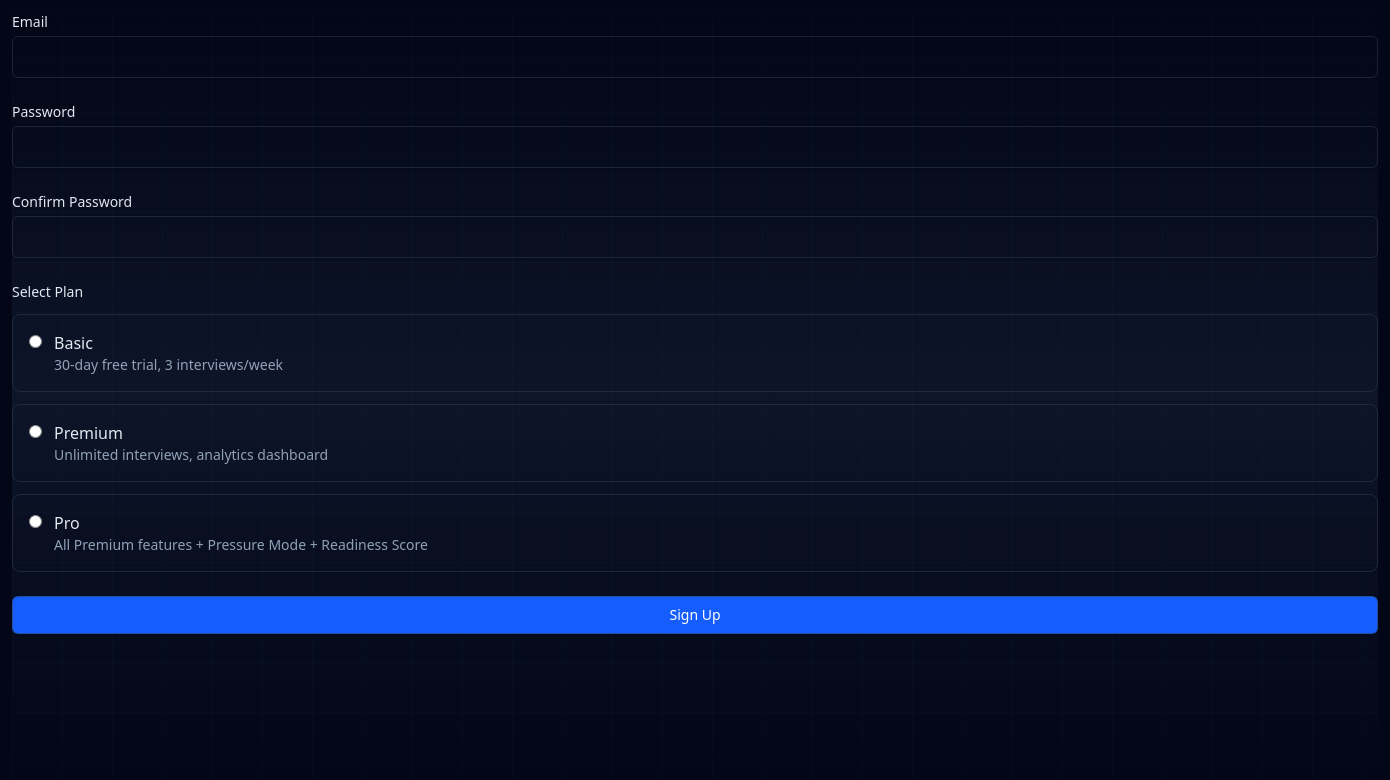
SignupForm › Form Validation - Password › should show error when password is empty
The width and height of the screenshot is (1390, 780).
Type "test@example.com" into the field with test id "email-input" at (695, 57), box [12,36,1378,78]
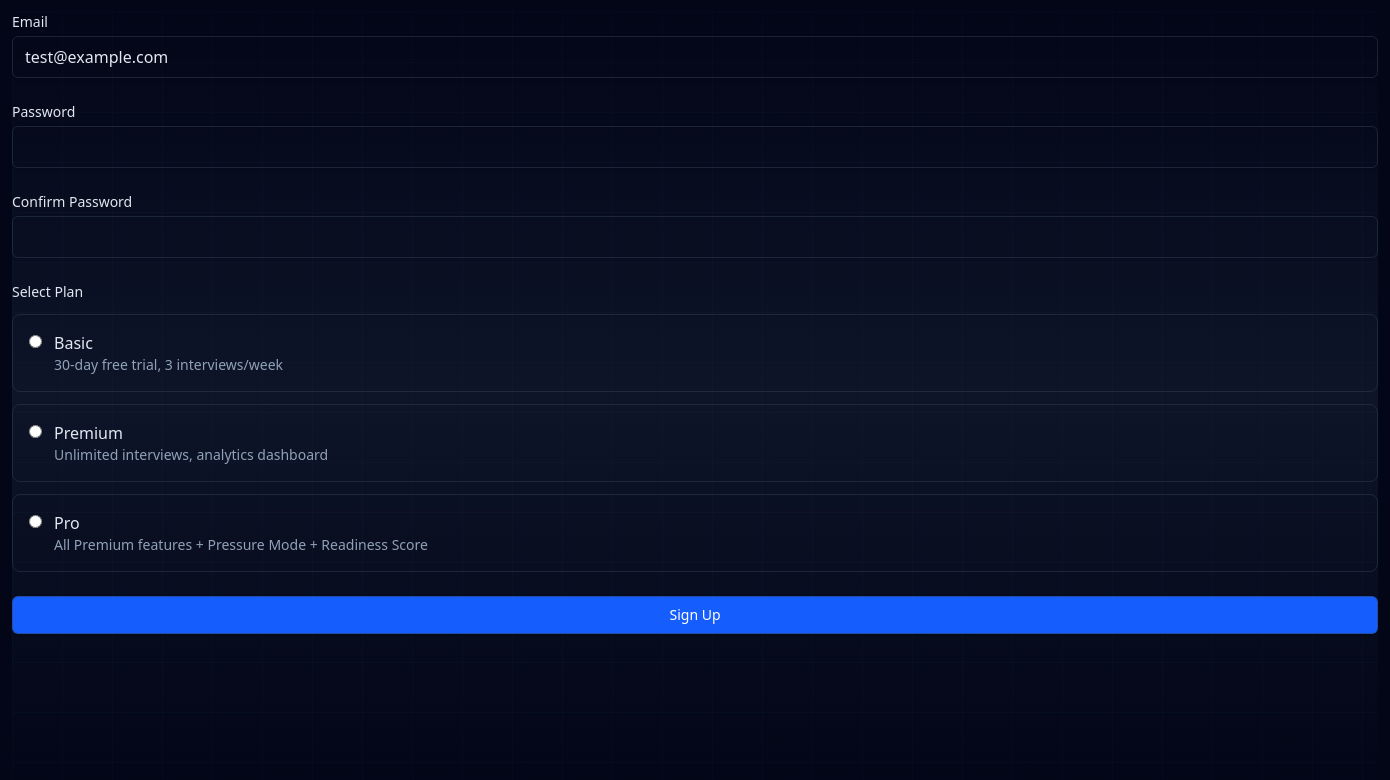
Click the button with test id "submit-button" at (695, 615), box [12,596,1378,634]
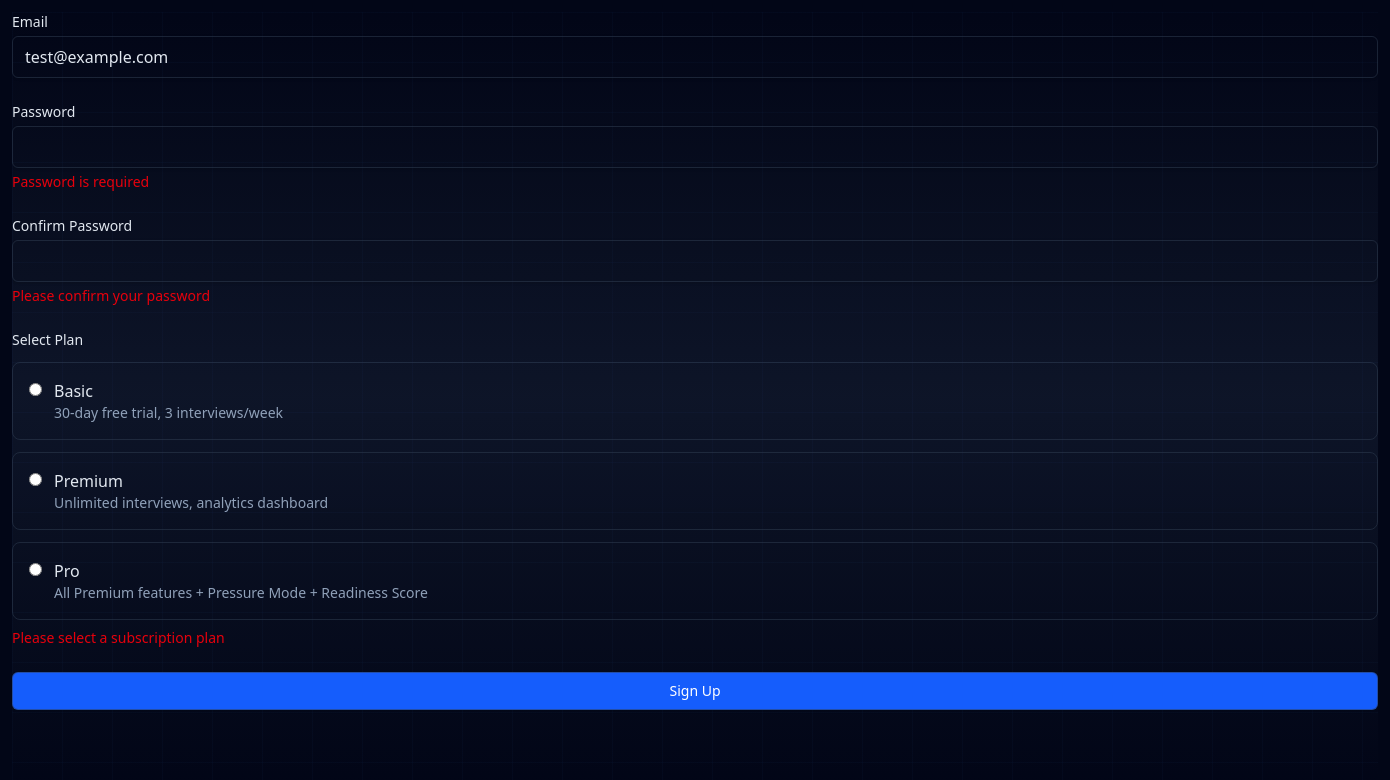
Result: the text with test id "password-error" reads "Password is required" at [12,172,149,191]
